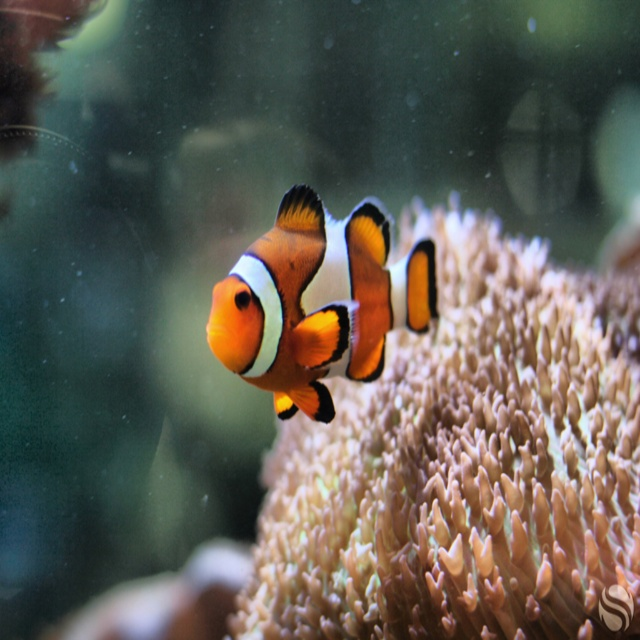Fish: (206, 184, 441, 425)
